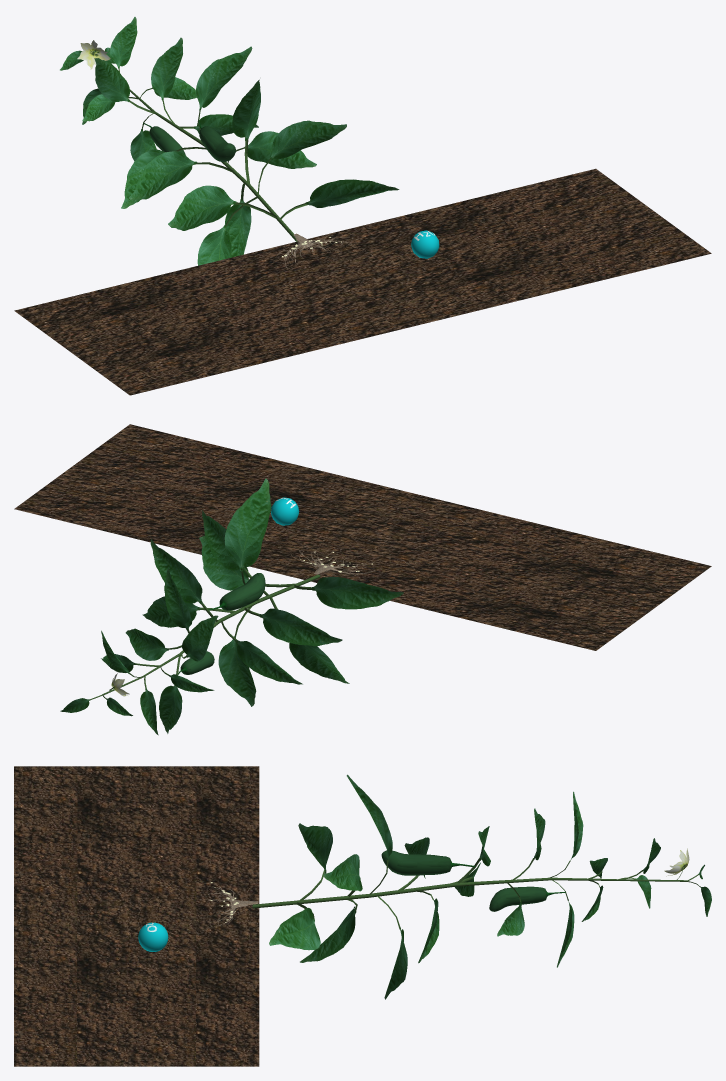
The model's file is root h2o anim.fbx.
3 renders of one model, top to bottom at view 1: azimuth 30°, elevation 25°; view 2: azimuth 150°, elevation 25°; view 3: azimuth 270°, elevation 25°, orthographic. The views are drawn at different scales.
Parts seen in each view (by area): view 1: polySurface186, _1_1; view 2: polySurface186, _1_1; view 3: polySurface186, _1_1.
Boxes of the visible parts, <box> form: polySurface186: <box>14,17,711,395</box>; _1_1: <box>411,230,439,258</box>; polySurface186: <box>14,424,711,735</box>; _1_1: <box>271,497,299,525</box>; polySurface186: <box>14,766,711,1066</box>; _1_1: <box>138,922,168,951</box>.
Bounding box in the file's own units: 398 × 144 × 390.
Materials: 5 (4 with a texture image).
